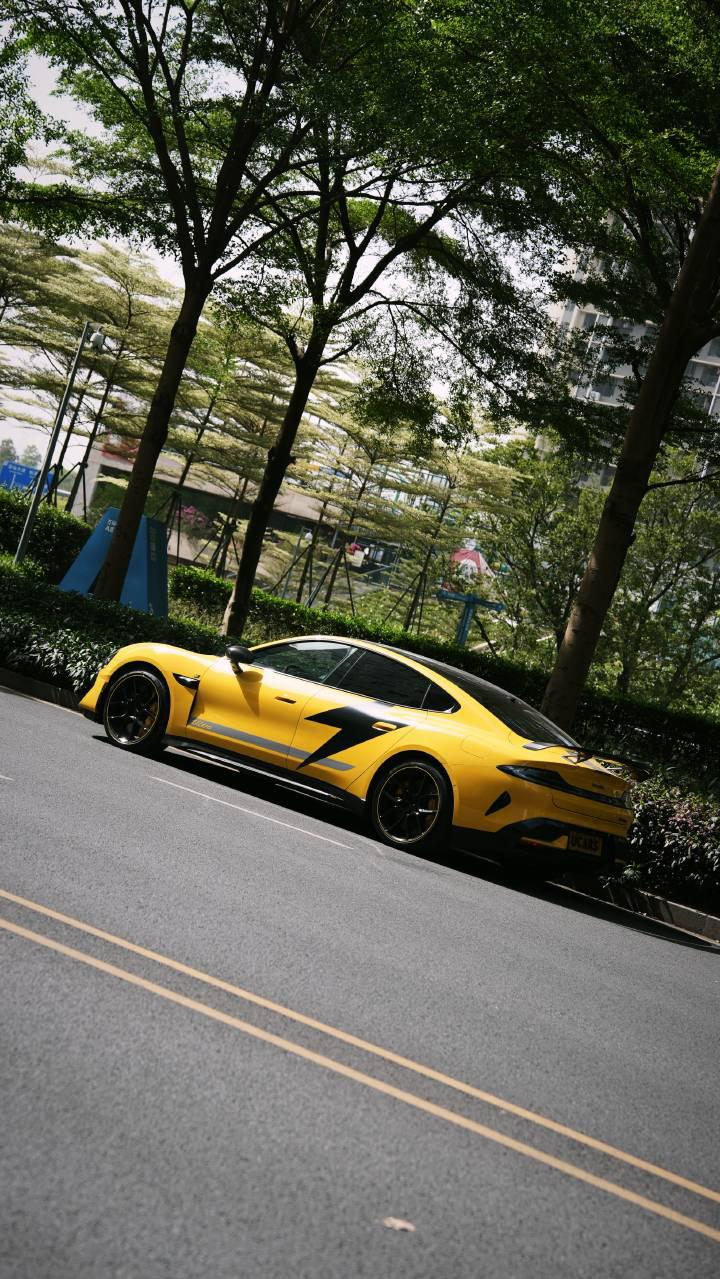su7: (82, 598, 651, 878)
